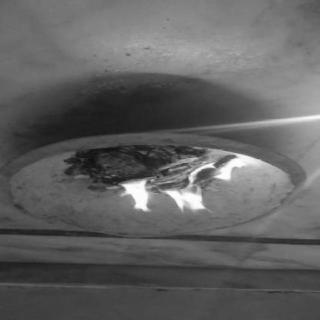Fire: (111, 178, 163, 215)
